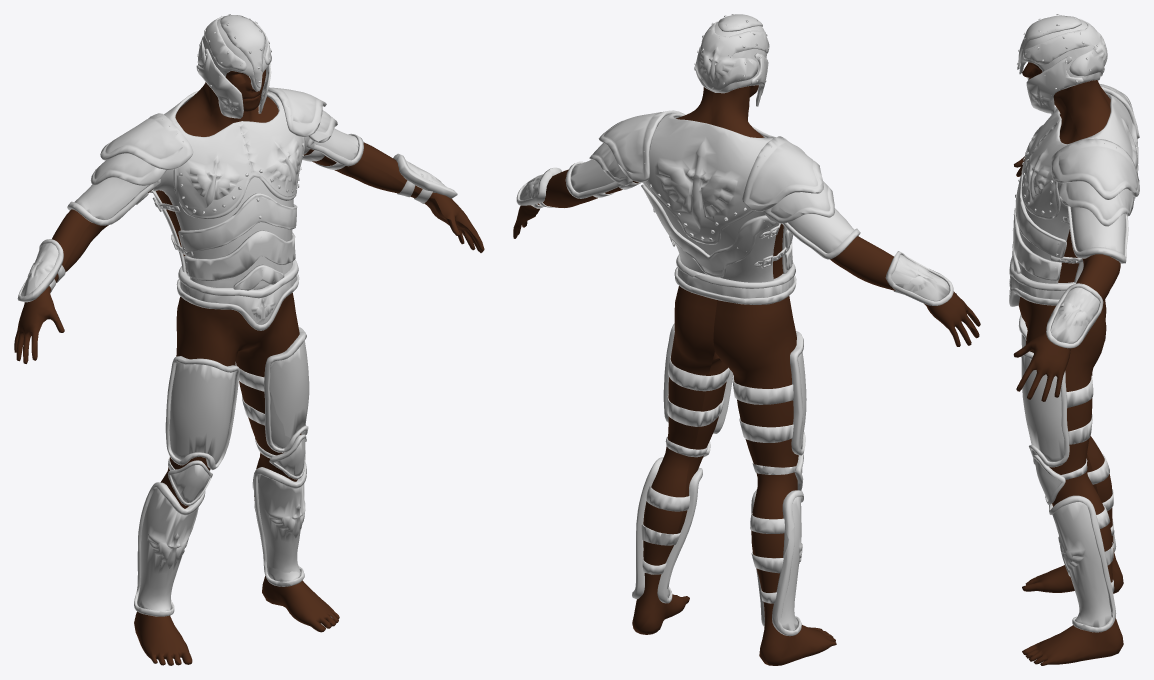
The model's file is Armadura.fbx.
The picture shows the model from 3 angles, left to right: view 1: azimuth 30°, elevation 25°; view 2: azimuth 150°, elevation 25°; view 3: azimuth 270°, elevation 25°; orthographic projection.
Parts seen in each view (by area): view 1: g Group37731; view 2: g Group37731; view 3: g Group37731.
Part boxes in pixels (<box>): g Group37731: <box>14,14,484,665</box>; g Group37731: <box>513,14,980,665</box>; g Group37731: <box>1009,14,1139,665</box>.
Size of the model in its own units: 9.44 by 12.11 by 2.37.
